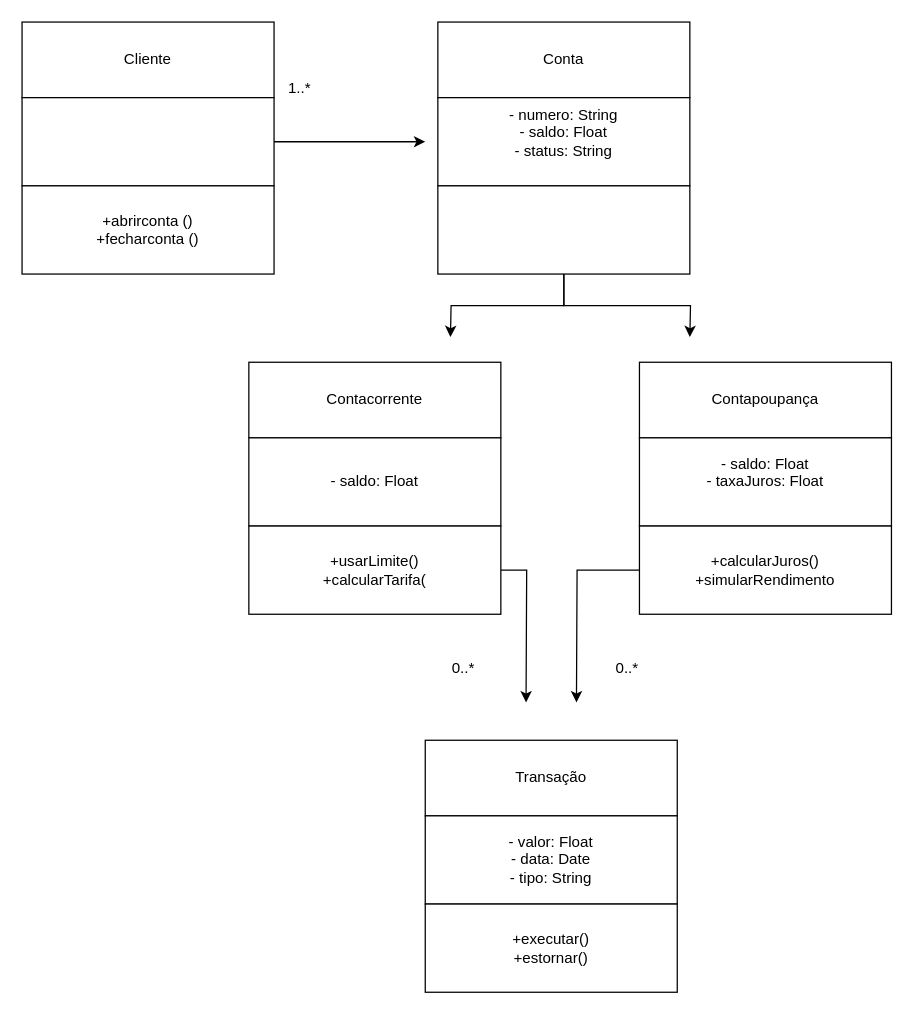
Image size: 914x1014. Some labels were removed from this diagram. Here are the shapes that lost their labels. From the top down, the box of each, then its label:
(21, 96, 274, 186): - nome: string - cpf: String
(437, 185, 690, 274): + depositar() + sacar()
